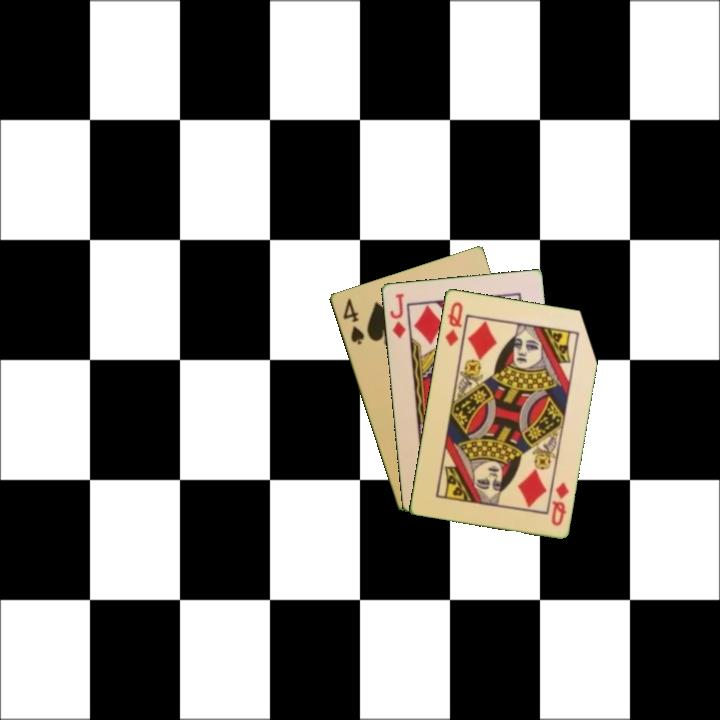4s: (339, 294, 367, 348)
Jd: (386, 289, 408, 341)
Qd: (547, 478, 572, 528), (441, 298, 465, 349)
